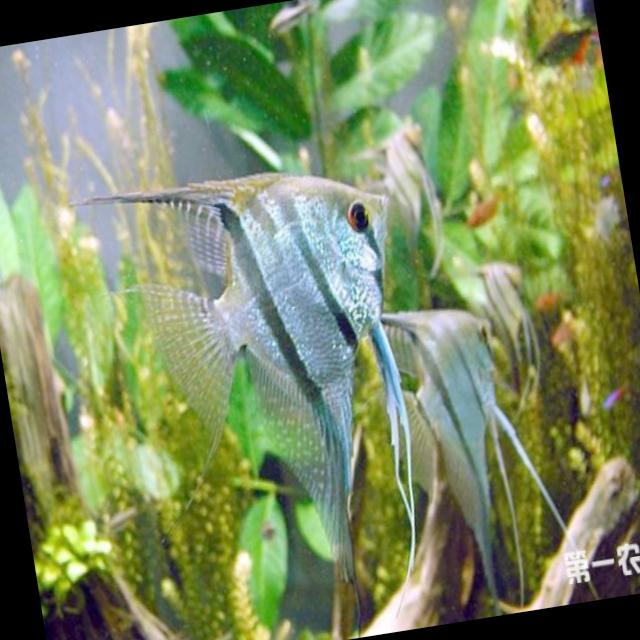AngelFish: (66, 148, 440, 604), (388, 297, 530, 564), (363, 114, 448, 268), (478, 250, 540, 375)
